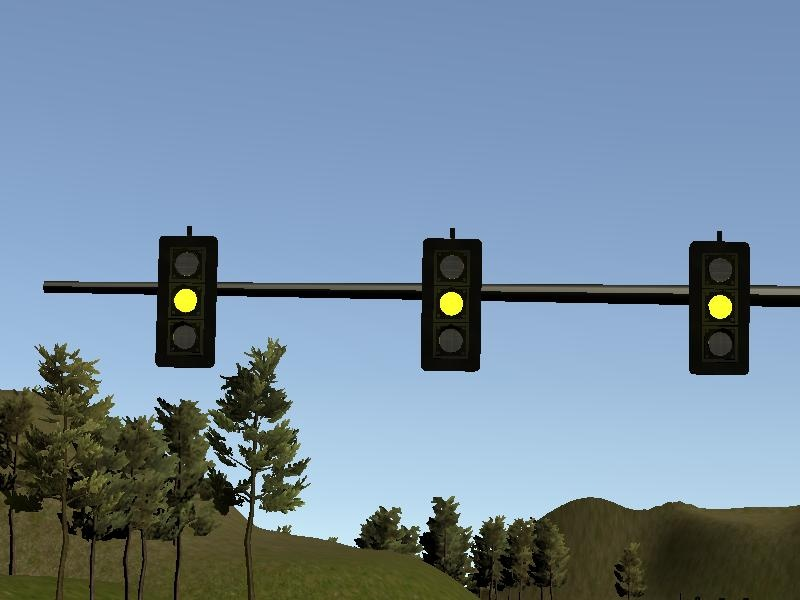YELLOW: (686, 241, 751, 376), (419, 238, 484, 373), (153, 233, 218, 368)
